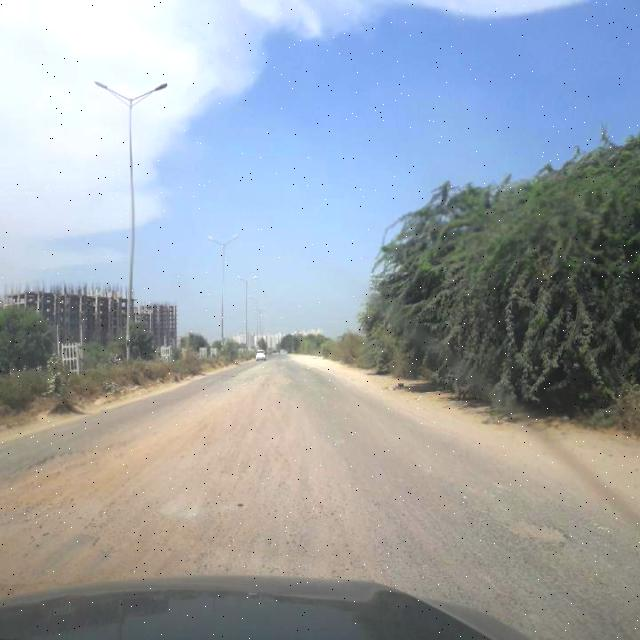D20: (410, 502, 636, 630)
D40: (1, 409, 339, 568), (508, 514, 578, 546)
